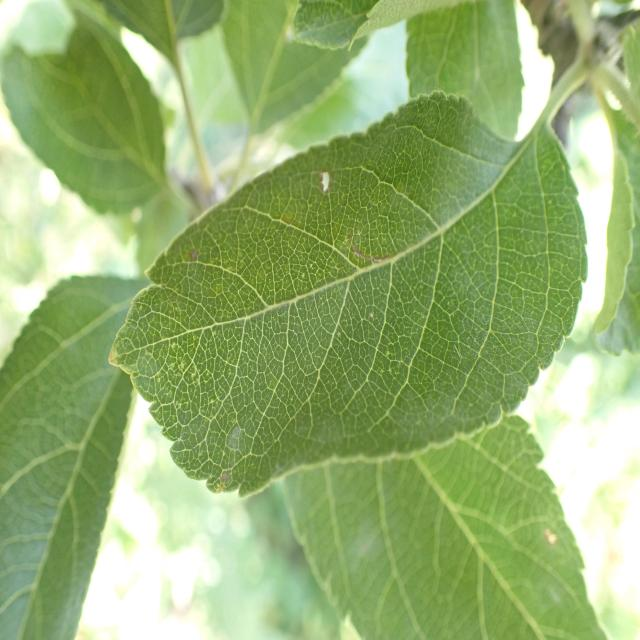Black Rot: (538, 516, 562, 563), (178, 239, 214, 270), (316, 156, 336, 205)
Powdery_mildew: (130, 149, 517, 512)
